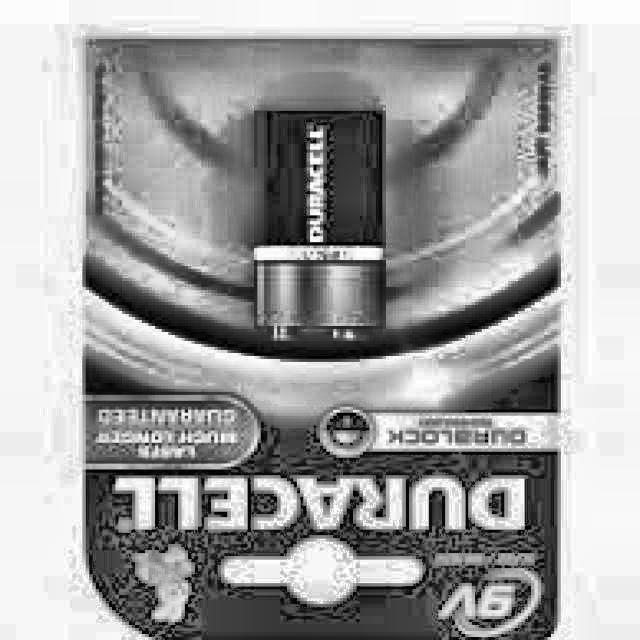battery: (79, 39, 561, 640), (254, 112, 384, 341)
